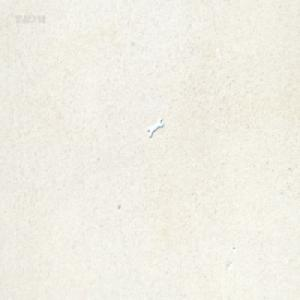Wrench: (146, 117, 164, 137)
